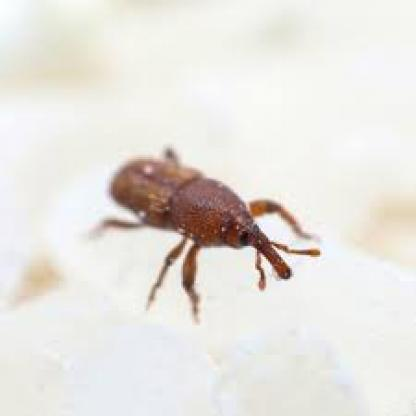rice-bug: (107, 156, 294, 294)
